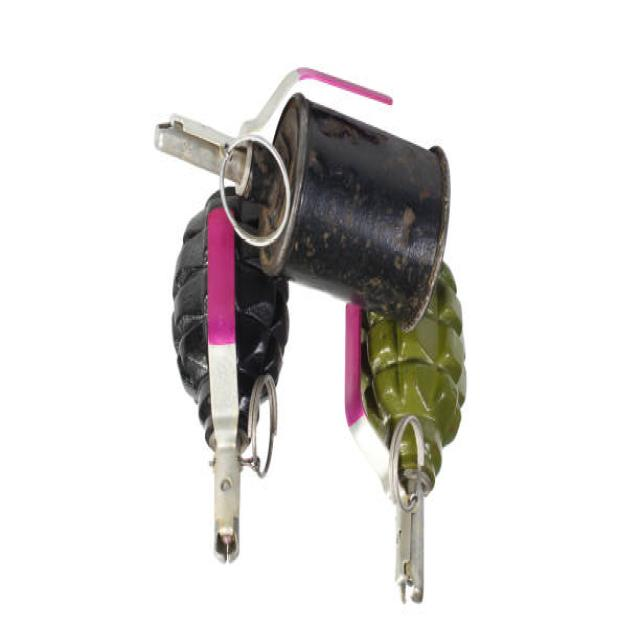grenade: (152, 64, 455, 340), (168, 189, 294, 569), (337, 262, 470, 616)
